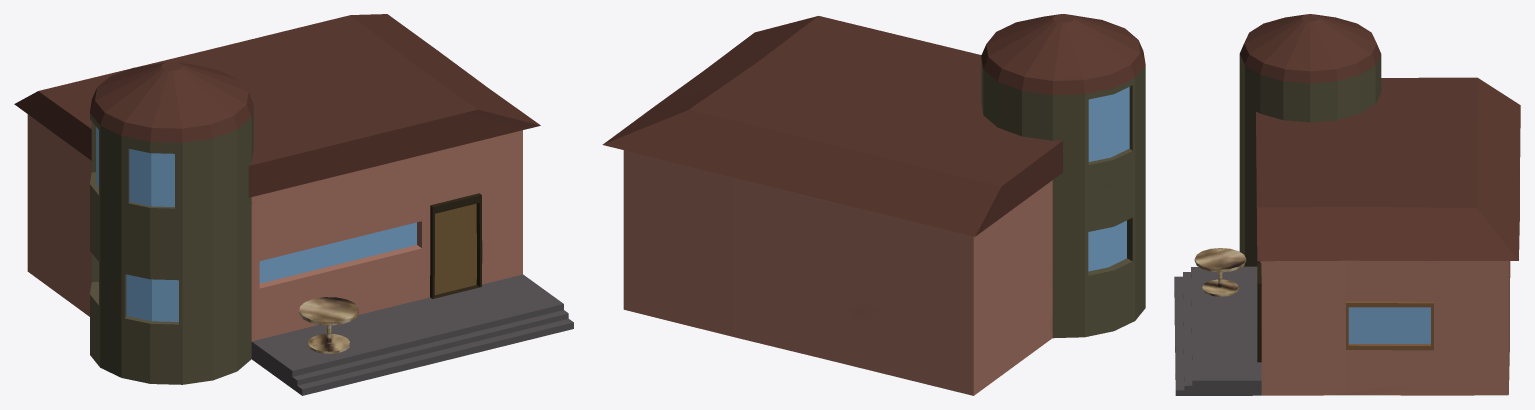
File: casa_normal.fbx
The picture shows the model from 3 angles, left to right: view 1: azimuth 30°, elevation 25°; view 2: azimuth 150°, elevation 25°; view 3: azimuth 270°, elevation 25°; orthographic projection. The views are drawn at different scales.
Parts seen in each view (by area): view 1: casa normal; view 2: casa normal; view 3: casa normal.
Boxes of the visible parts, x1=… form: casa normal: x1=14, y1=14, x2=573, y2=395; casa normal: x1=602, y1=14, x2=1145, y2=395; casa normal: x1=1174, y1=14, x2=1520, y2=395.
Size of the model in its own units: 15.89 by 10.51 by 13.58.
